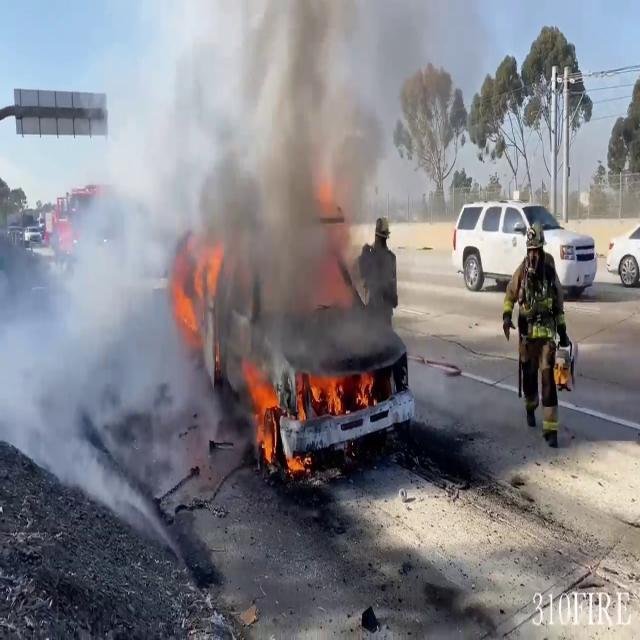Fire: (244, 356, 376, 470), (170, 228, 226, 346), (242, 354, 282, 468)
Smoke: (1, 1, 397, 493)
